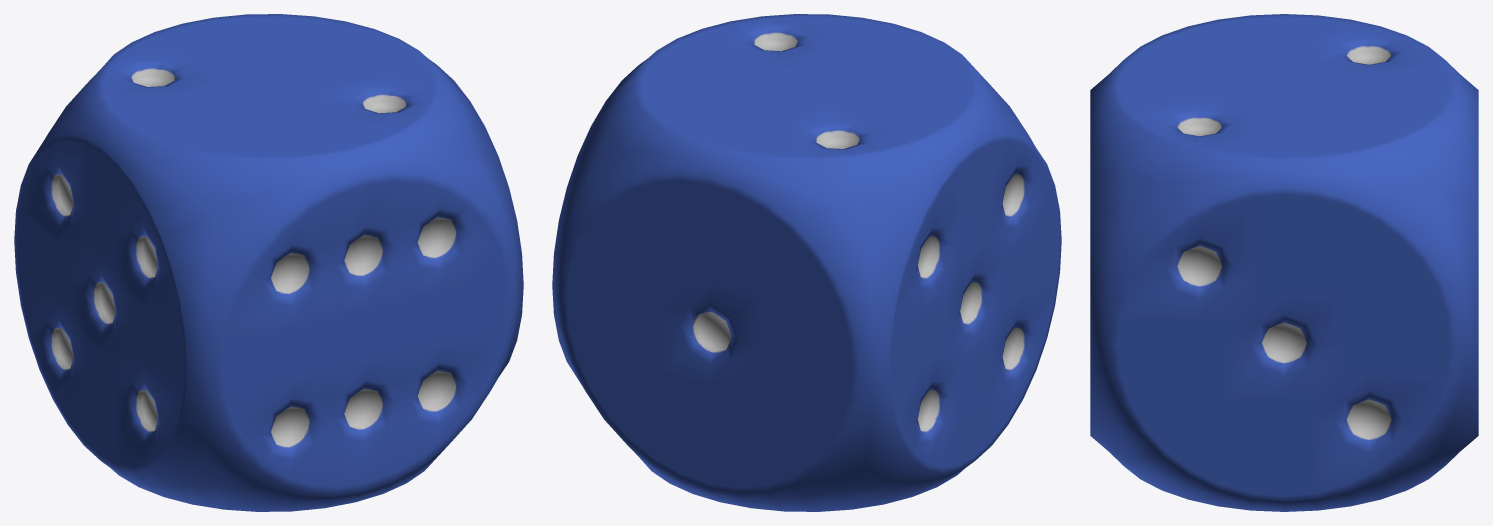
Rendered from diceCollada.dae.
3 renders of one model, left to right at view 1: azimuth 30°, elevation 25°; view 2: azimuth 150°, elevation 25°; view 3: azimuth 270°, elevation 25°, orthographic.
Visible parts, largest first — view 1: Dice; view 2: Dice; view 3: Dice.
Part boxes in pixels (bbox=[...]): Dice: bbox=[14, 14, 523, 511]; Dice: bbox=[552, 14, 1061, 511]; Dice: bbox=[1090, 14, 1478, 511].
Size of the model in its own units: 0.01 by 0.01 by 0.01.
1 material, 1 textured.
